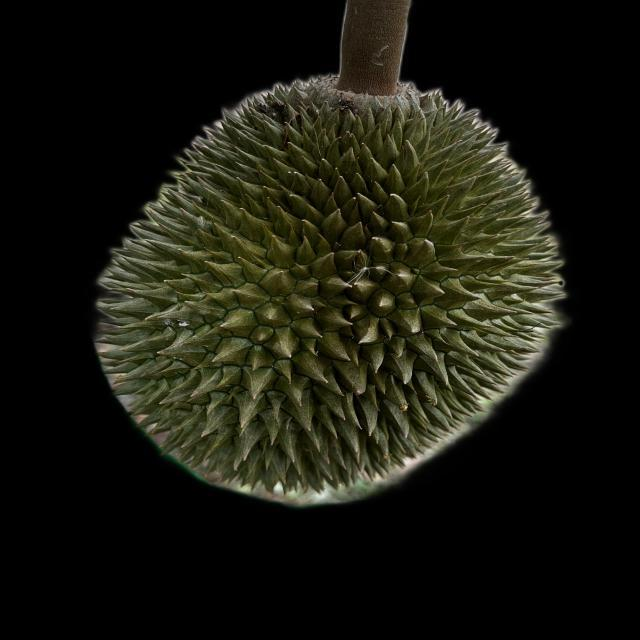immature: (98, 78, 576, 504)
